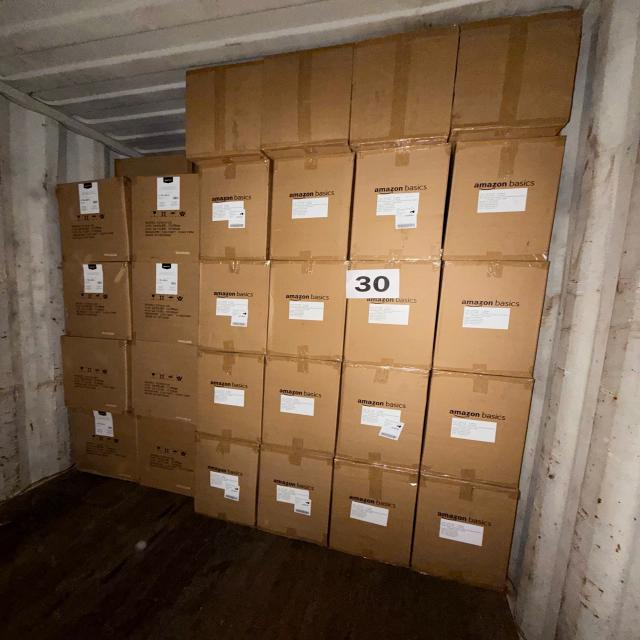Carton: (451, 5, 573, 127), (449, 138, 562, 264), (356, 24, 461, 149), (437, 261, 546, 380), (425, 369, 533, 489), (416, 469, 520, 588), (354, 146, 450, 264), (342, 259, 435, 370), (259, 39, 350, 150), (336, 364, 426, 473), (331, 456, 414, 568), (272, 156, 351, 263), (268, 263, 346, 362), (183, 56, 257, 158), (256, 448, 330, 549), (261, 358, 337, 456), (199, 158, 269, 261), (200, 262, 270, 354), (131, 175, 203, 263), (198, 349, 264, 444), (130, 340, 202, 427), (193, 434, 257, 530), (54, 180, 128, 262), (128, 263, 199, 345), (61, 264, 130, 340), (60, 334, 127, 412), (70, 411, 140, 484), (135, 417, 195, 497)
